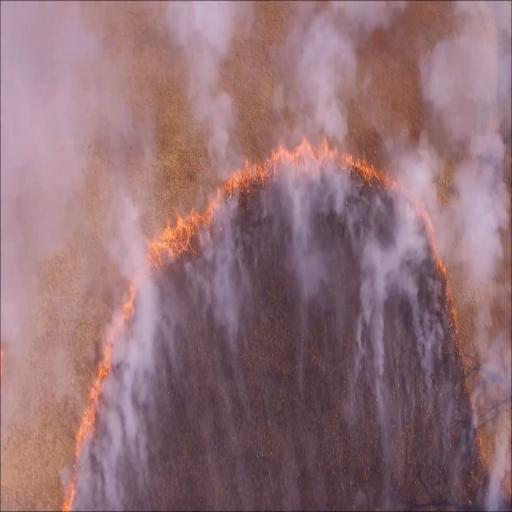fire: (154, 204, 213, 258), (273, 134, 331, 184), (337, 147, 393, 194), (224, 151, 274, 192)
smoke: (417, 2, 512, 512), (166, 0, 254, 356), (349, 192, 424, 405), (112, 273, 164, 507)
